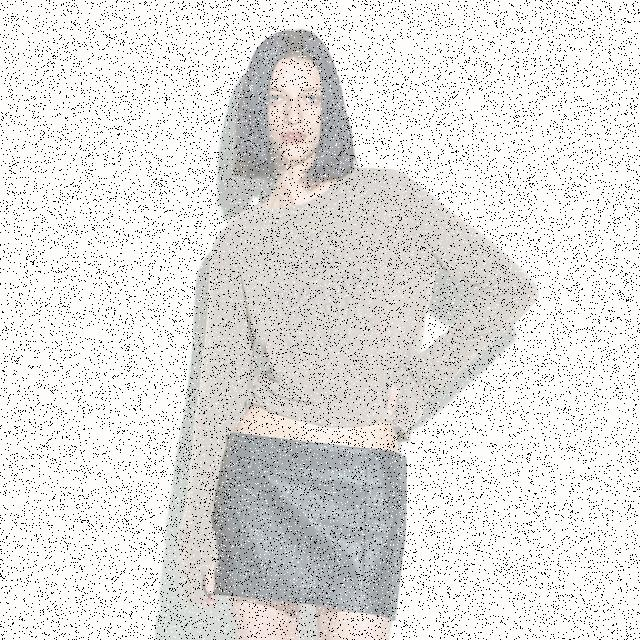dress: (182, 145, 543, 484)
